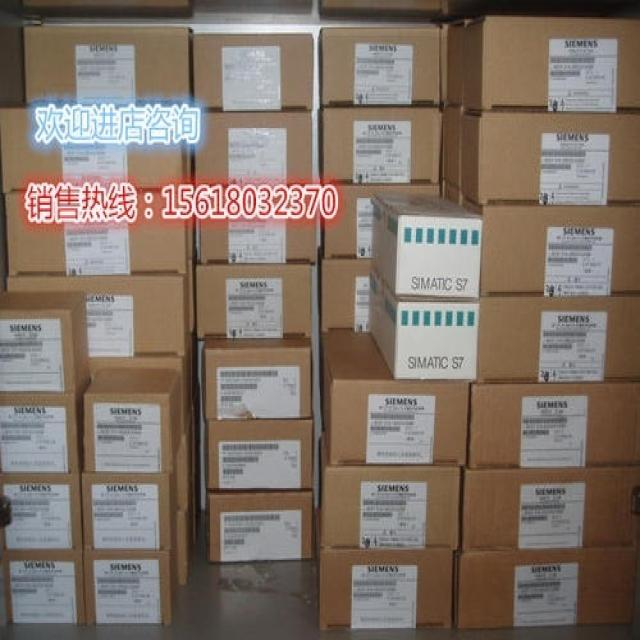box: (321, 331, 470, 468), (6, 261, 191, 358), (463, 106, 640, 207), (463, 15, 640, 114), (462, 200, 640, 295), (319, 432, 461, 551), (0, 108, 195, 193), (5, 191, 191, 276), (458, 466, 640, 551), (452, 546, 636, 628), (467, 381, 640, 466), (476, 295, 640, 382), (24, 26, 195, 108), (369, 265, 479, 381), (371, 191, 483, 299), (317, 548, 453, 631), (83, 365, 182, 474), (317, 26, 440, 108), (317, 106, 443, 184), (90, 338, 191, 435), (195, 109, 314, 191), (193, 34, 314, 113), (0, 290, 91, 394), (82, 454, 179, 551), (202, 340, 314, 423), (321, 184, 440, 258), (195, 193, 316, 265), (195, 265, 311, 340), (206, 418, 314, 492), (205, 490, 312, 563), (83, 544, 179, 625), (0, 393, 83, 474), (0, 473, 83, 550), (3, 550, 86, 625), (317, 246, 371, 333), (440, 19, 472, 106), (440, 104, 463, 193), (177, 408, 192, 514), (177, 497, 193, 585), (439, 177, 463, 207)
